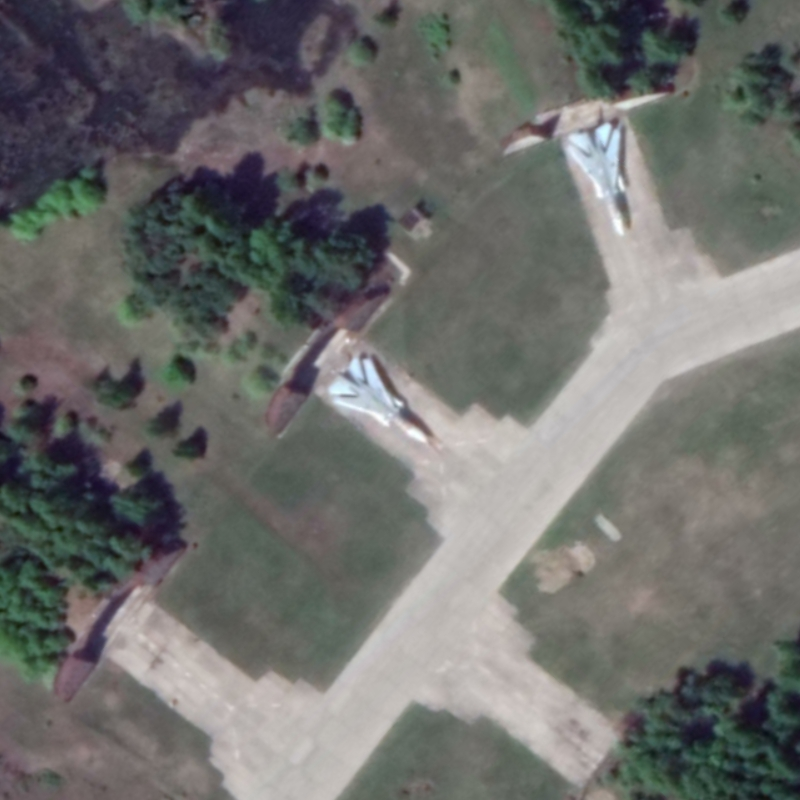A20: (326, 354, 433, 447), (563, 119, 630, 239)
